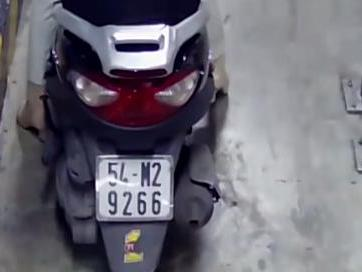num_plate: (94, 153, 178, 221)
